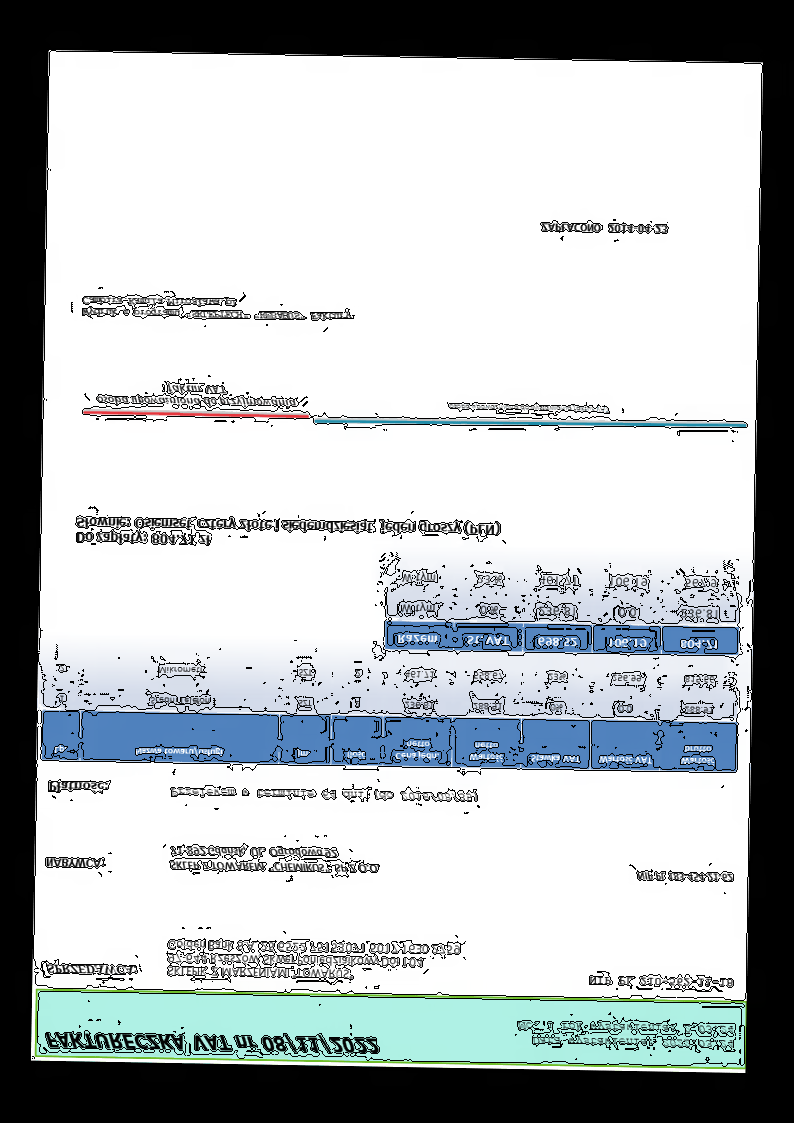Table: (40, 648, 739, 776), (383, 555, 742, 657)
TextBox: (72, 511, 503, 552), (165, 935, 462, 983), (41, 1028, 381, 1059), (79, 292, 353, 325), (515, 1018, 736, 1052), (167, 843, 379, 876), (94, 379, 298, 411), (168, 786, 479, 805), (586, 973, 735, 990), (446, 400, 613, 415), (539, 221, 670, 236), (43, 962, 138, 979), (634, 869, 734, 885), (46, 779, 109, 796), (42, 856, 106, 872)
